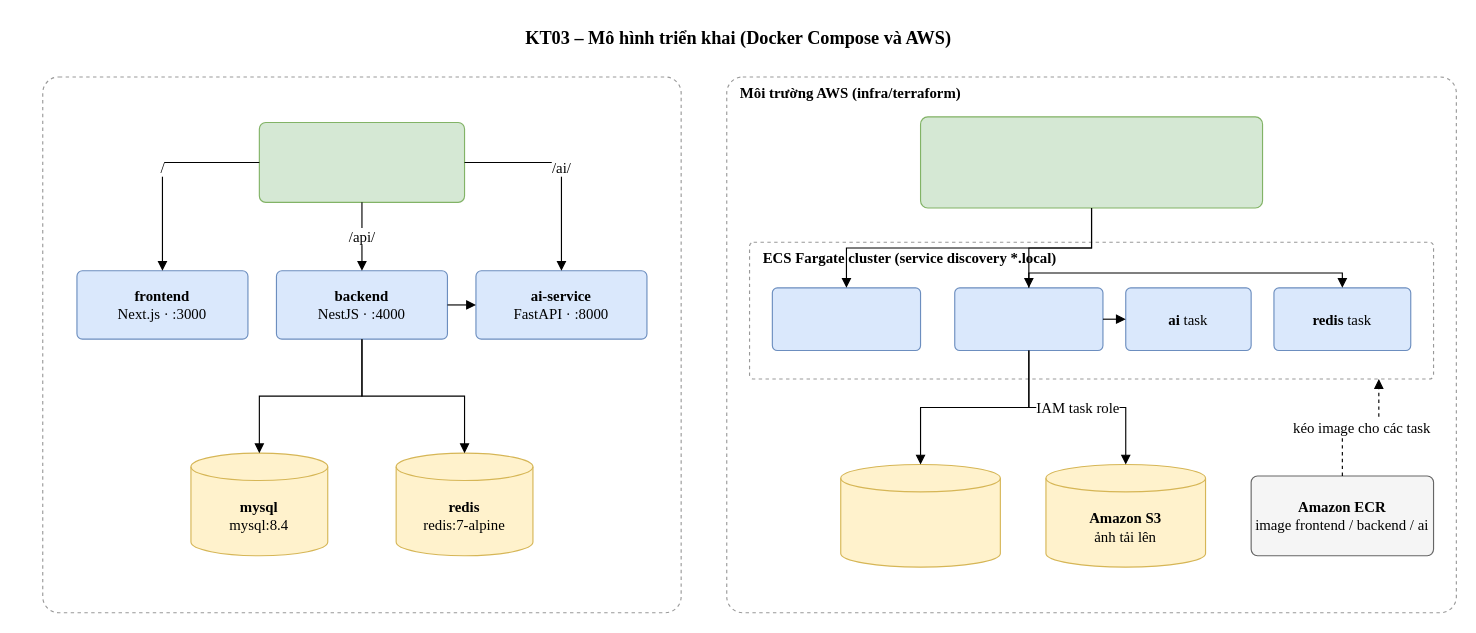
This 1476x633 diagram has some shape labels left out. Each missing label, with the box of its shape:
Amazon RDS MySQL 8 (SSL): (840, 463, 1000, 567)
Application Load Balancer HTTP→HTTPS (ACM) /api/v1/* → backend · /* → frontend: (919, 116, 1263, 208)
backend task: (954, 287, 1103, 351)
frontend task: (771, 287, 921, 351)
Môi trường Docker Compose (infra/compose.yaml): (42, 76, 681, 613)
nginx nginx:1.27-alpine :8080 → 80: (258, 121, 465, 202)
